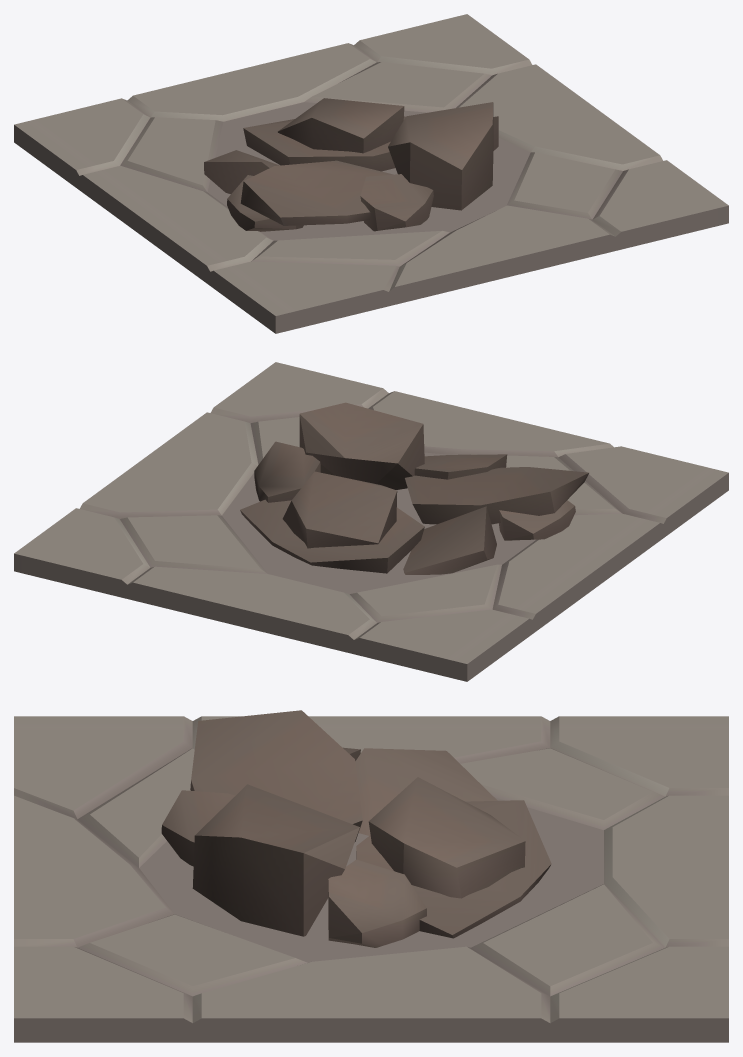
The model's file is floor_tile_large_rocks.glb.
3 renders of one model, top to bottom at view 1: azimuth 30°, elevation 25°; view 2: azimuth 150°, elevation 25°; view 3: azimuth 270°, elevation 25°, orthographic. The views are drawn at different scales.
Parts seen in each view (by area): view 1: floor_tile_large_rocks; view 2: floor_tile_large_rocks; view 3: floor_tile_large_rocks.
Part boxes in pixels (bbox=[...]): floor_tile_large_rocks: bbox=[14, 14, 728, 333]; floor_tile_large_rocks: bbox=[14, 362, 728, 681]; floor_tile_large_rocks: bbox=[14, 710, 728, 1042].
Size of the model in its own units: 4 by 0.6362 by 4.
Materials: 1 (1 with a texture image).
